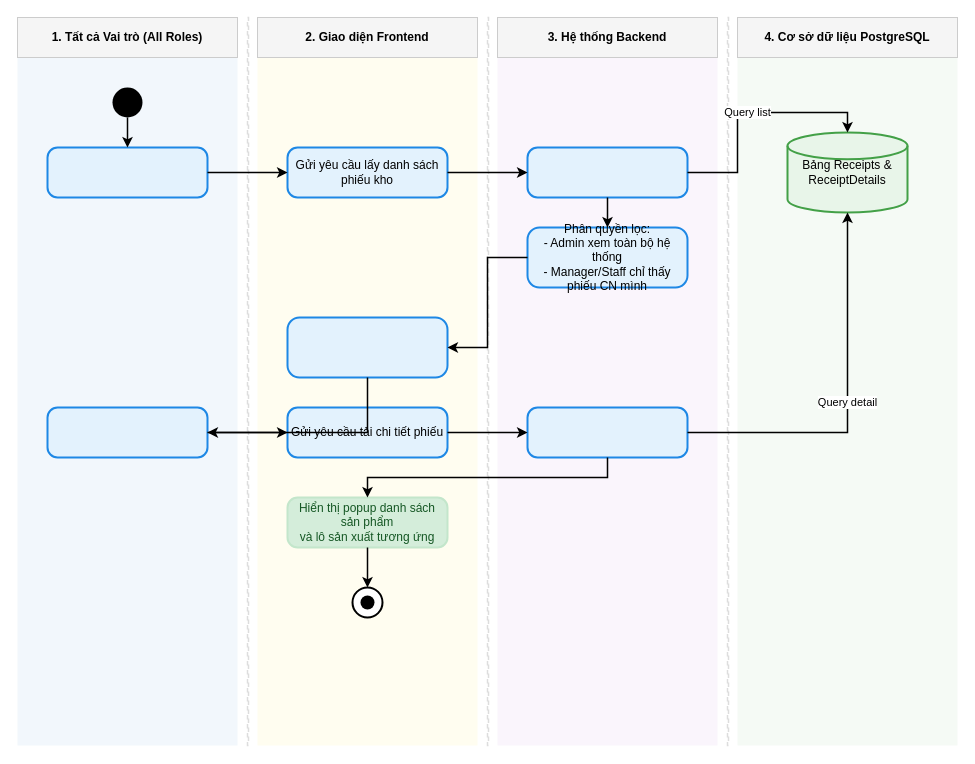
Image size: 975x764. Some labels were removed from this diagram. The box of each missing label's shape, as (x1, y1, x2, y2) in pixels:
Chọn một phiếu để xem chi tiết: (46, 406, 208, 458)
Click chức năng Lịch sử giao dịch: (46, 146, 208, 198)
Hiển thị danh sách phiếu kèm bộ lọc (loại phiếu, thời gian, người lập): (286, 316, 448, 378)
Truy xuất danh sách chi tiết lô hàng của phiếu được chọn: (526, 406, 688, 458)
Truy xuất danh sách phiếu từ DB: (526, 146, 688, 198)
